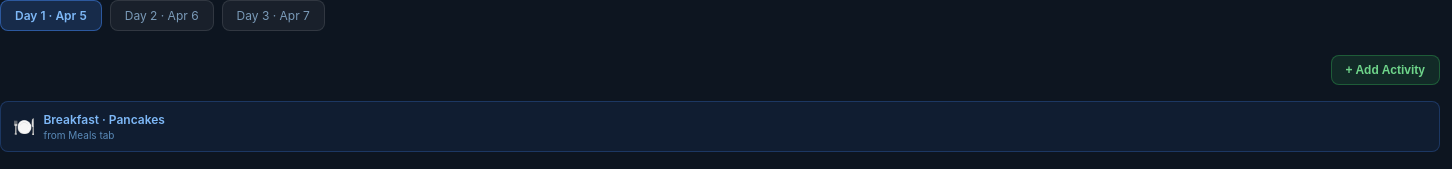
ItineraryTab integration › does not show meals for other days
# Switch to Day 2 (Apr 6) — meal m1 is on Apr 5, should disappear
Click the text with test id "day-tab-2027-04-06" at [162, 16], box [110,0,214,31]
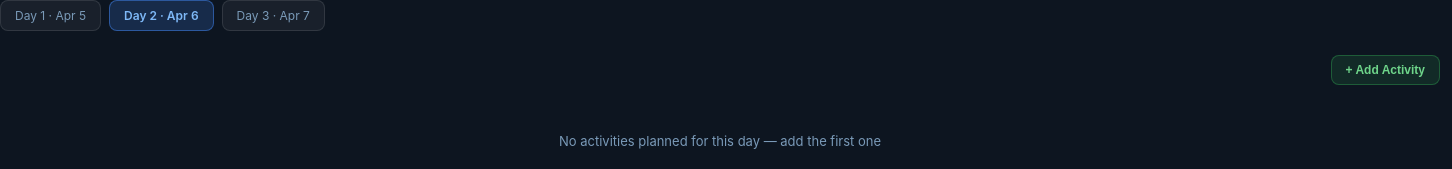
Expected: the element with test id "meal-card-itinerary-m1" is gone
